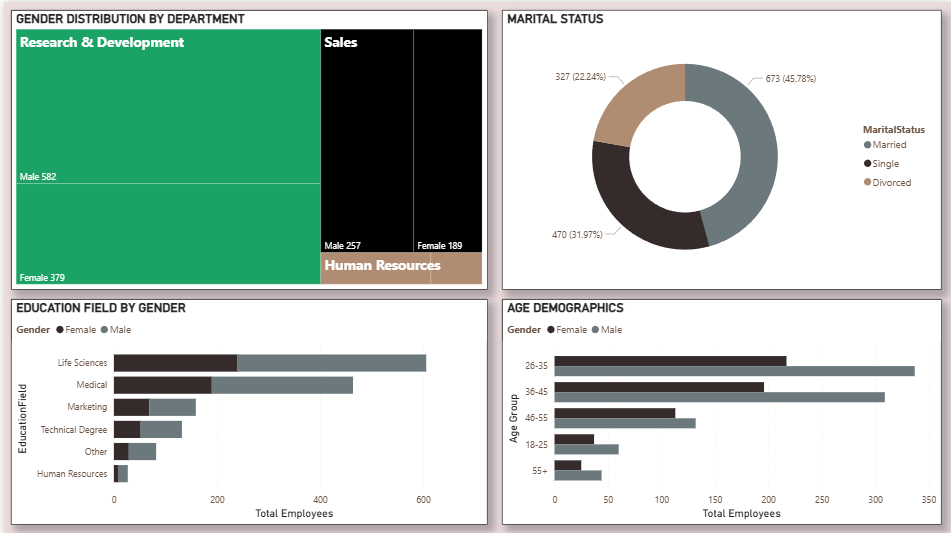

This screenshot's page, from the dashboard's own definition file:
{"tool":"powerbi","page":{"name":"Diversity & Inclusion","canvas":[1280,720],"ordinal":2},"visuals":[{"type":"treemap","title":"GENDER DISTRIBUTION BY DEPARTMENT","fields":{"Group":["HR_Employee_dataset.Department"],"Details":["HR_Employee_dataset.Gender"],"Values":["HR_Employee_dataset.Total Employees"]},"box":[10,11.4,643.6,377.6],"z":0},{"type":"donutChart","title":"MARITAL STATUS","fields":{"Category":["HR_Employee_dataset.MaritalStatus"],"Y":["HR_Employee_dataset.Total Employees"]},"box":[673.6,11.4,593.5,377.6],"z":1000},{"type":"barChart","title":"EDUCATION FIELD BY GENDER","fields":{"Category":["HR_Employee_dataset.EducationField"],"Y":["HR_Employee_dataset.Total Employees"],"Series":["HR_Employee_dataset.Gender"]},"box":[10,401.9,643.6,304.6],"z":2000},{"type":"clusteredBarChart","title":"AGE DEMOGRAPHICS","fields":{"Category":["HR_Employee_dataset.Age Group"],"Y":["HR_Employee_dataset.Total Employees"],"Series":["HR_Employee_dataset.Gender"]},"box":[673.6,401.9,593.5,304.6],"z":3000}]}

Visuals, with their boxes in screenshot pixels (x1, y1, x2, y2), scaled from the page's 1280x720 canvas onto the 951x533 screenshot:
"GENDER DISTRIBUTION BY DEPARTMENT" treemap: 7, 8, 486, 288
"MARITAL STATUS" donutChart: 500, 8, 941, 288
"EDUCATION FIELD BY GENDER" barChart: 7, 298, 486, 523
"AGE DEMOGRAPHICS" clusteredBarChart: 500, 298, 941, 523
